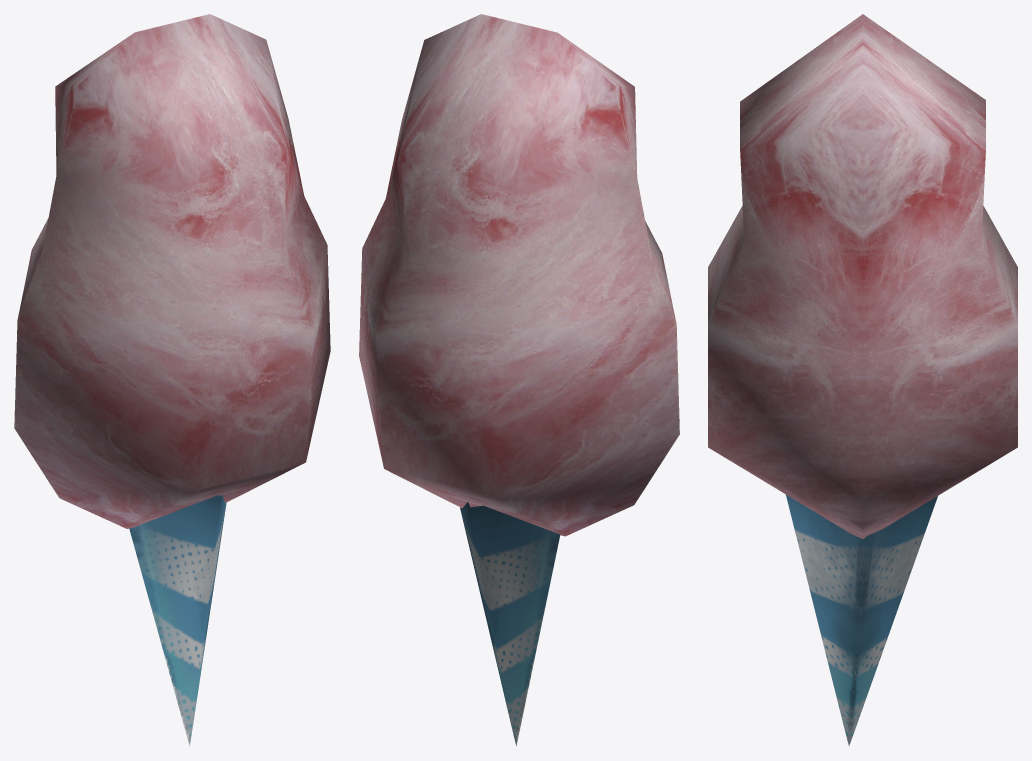
File: candy.fbx
The picture shows the model from 3 angles, left to right: view 1: azimuth 30°, elevation 25°; view 2: azimuth 150°, elevation 25°; view 3: azimuth 270°, elevation 25°; orthographic projection. The views are drawn at different scales.
Visible parts, largest first — view 1: Plane.024; view 2: Plane.024; view 3: Plane.024.
Part boxes in pixels (x1=…): Plane.024: x1=14, y1=14, x2=330, y2=746; Plane.024: x1=359, y1=14, x2=679, y2=745; Plane.024: x1=708, y1=14, x2=1017, y2=746.
Size of the model in its own units: 18.55 by 15.98 by 40.4.
